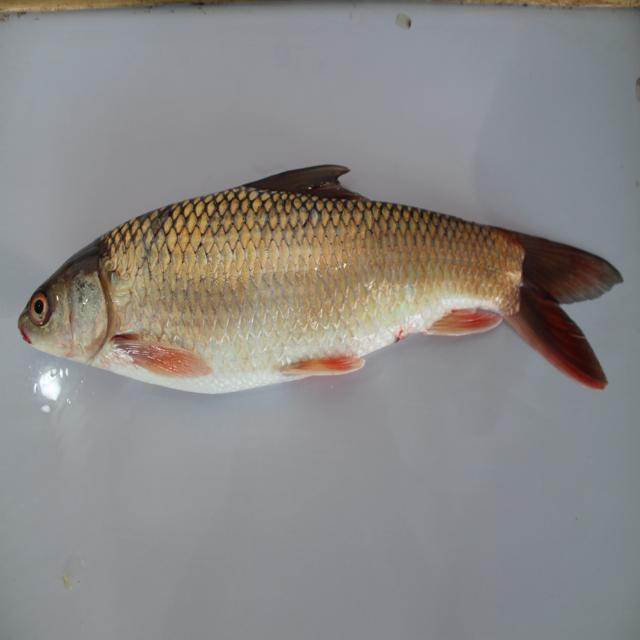Mori: (7, 144, 631, 421)
